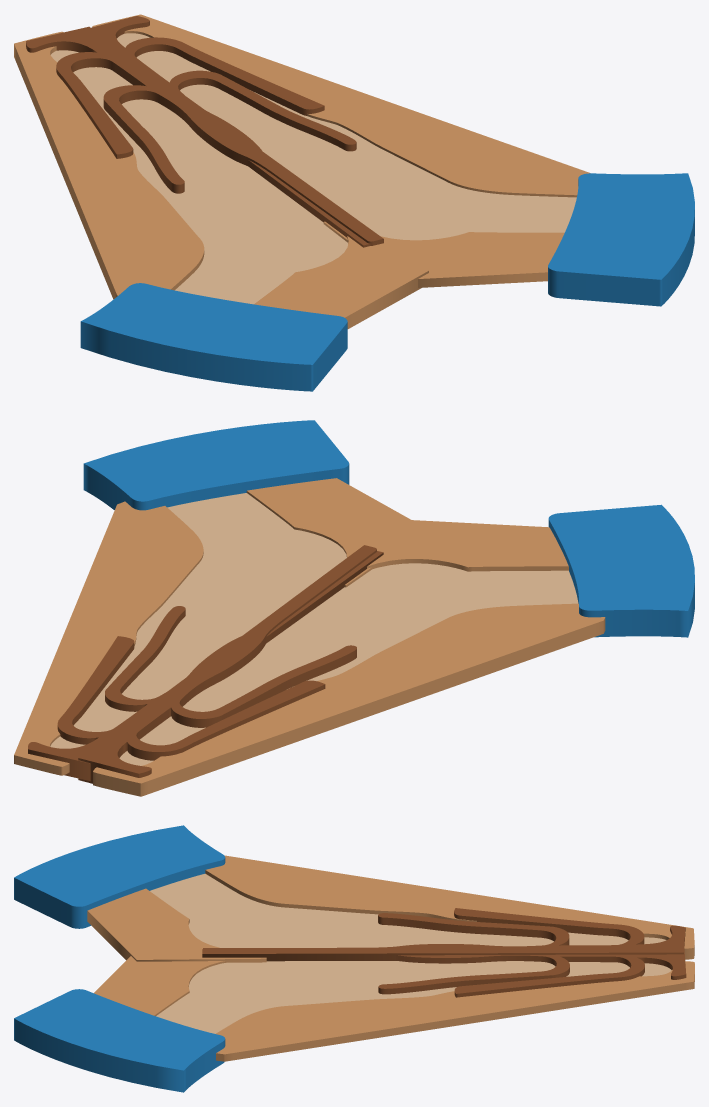
File: emoji_u1f64f_1f3fc.glb
The picture shows the model from 3 angles, top to bottom: view 1: azimuth 30°, elevation 25°; view 2: azimuth 150°, elevation 25°; view 3: azimuth 270°, elevation 25°; orthographic projection. The views are drawn at different scales.
Parts seen in each view (by area): view 1: emoji_u1f64f_1f3fc; view 2: emoji_u1f64f_1f3fc; view 3: emoji_u1f64f_1f3fc.
Part boxes in pixels (<box>): emoji_u1f64f_1f3fc: <box>14,14,694,391</box>; emoji_u1f64f_1f3fc: <box>14,420,694,796</box>; emoji_u1f64f_1f3fc: <box>14,825,694,1092</box>.
Size of the model in its own units: 0.0286 by 0.0012 by 0.0335.
